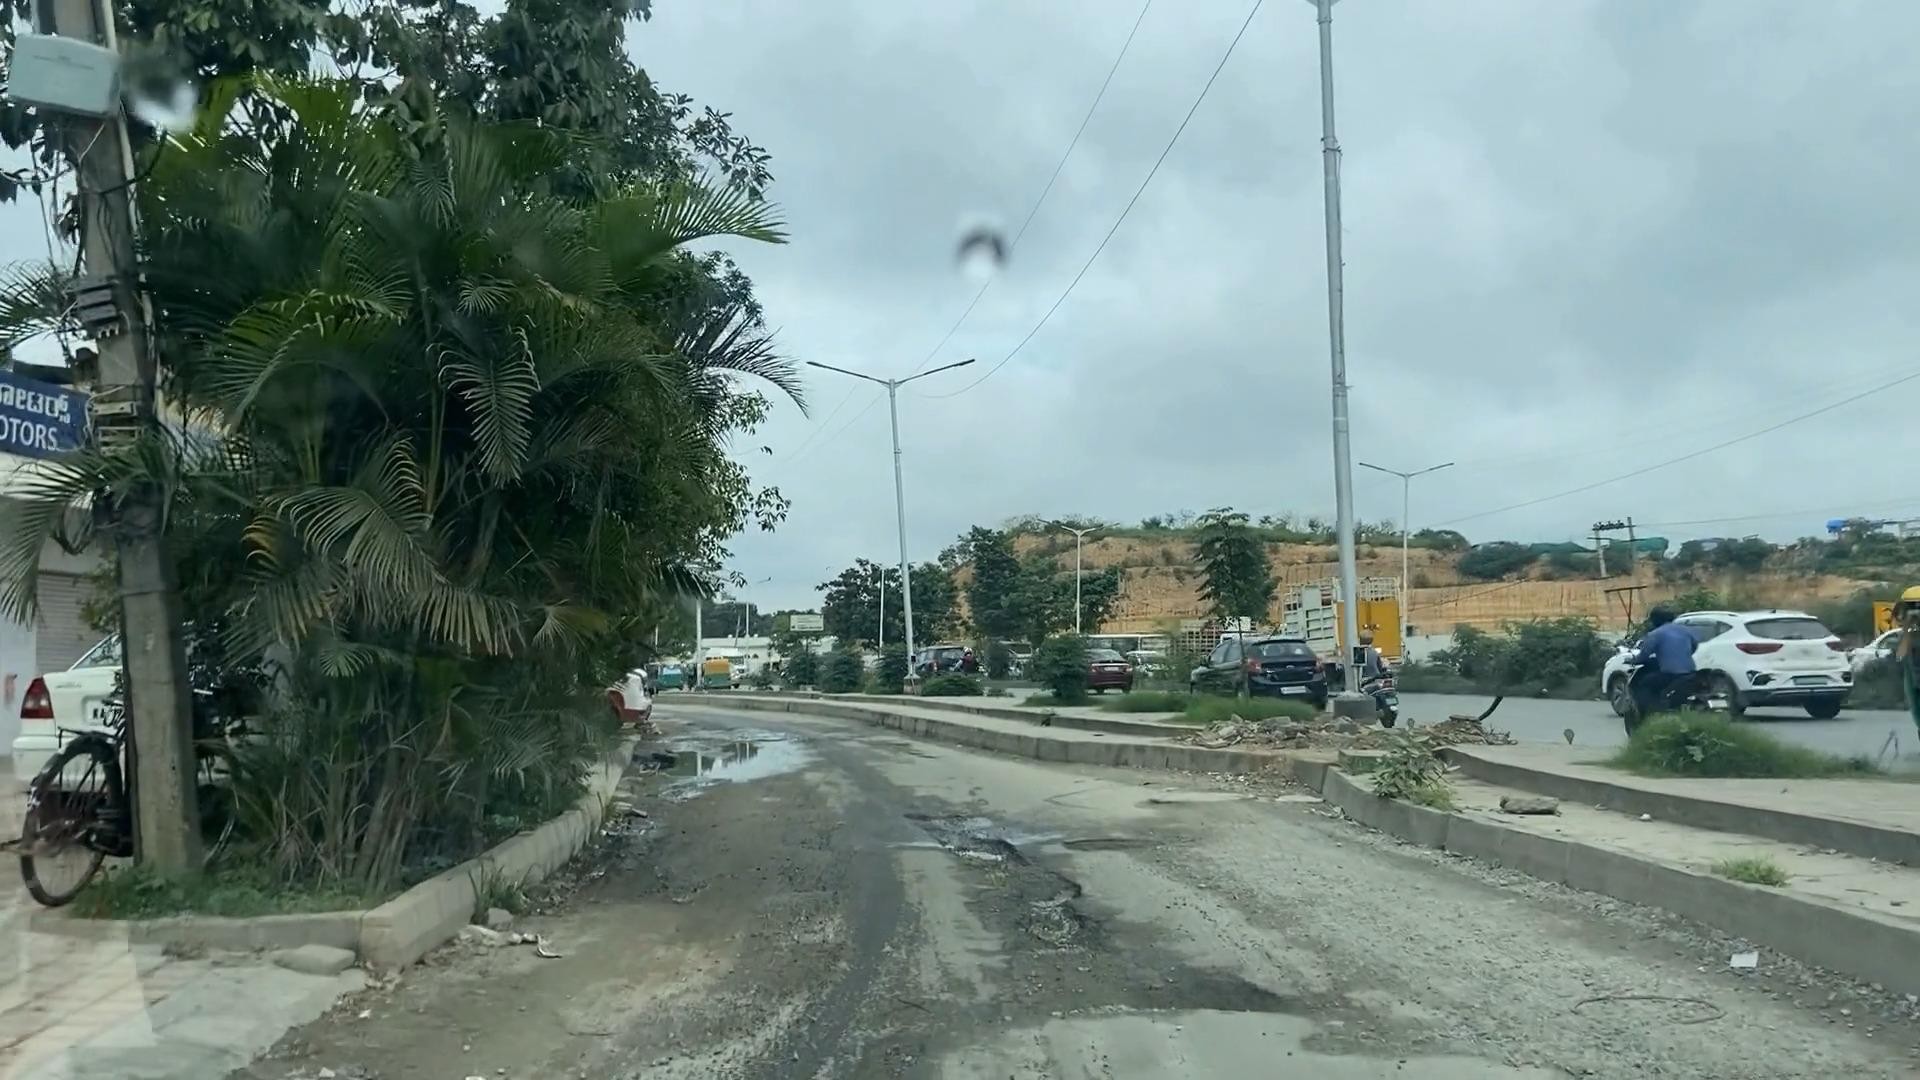RoadDamages: (933, 803, 1120, 972), (1303, 973, 1592, 1080)
